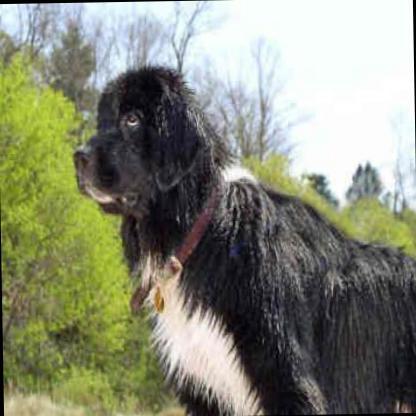Newfoundland: (71, 60, 416, 410)
